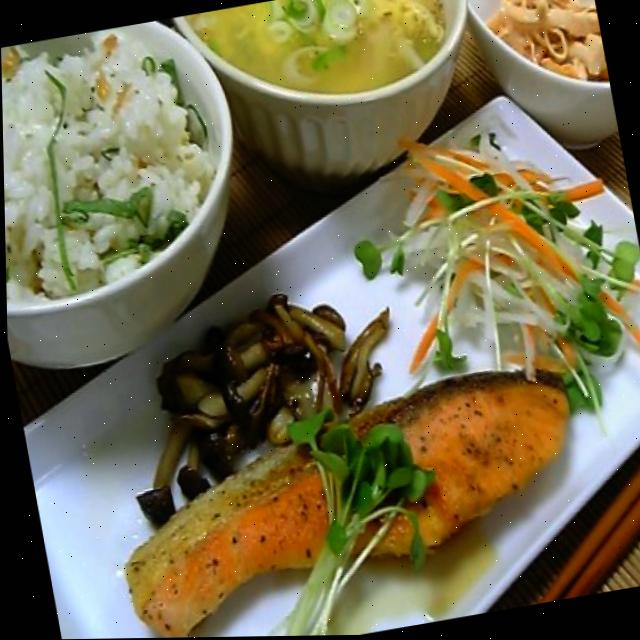汤锅炖物: (168, 0, 488, 140)
熟制海鲜: (74, 353, 612, 639)
米饭主食: (0, 10, 261, 320)
